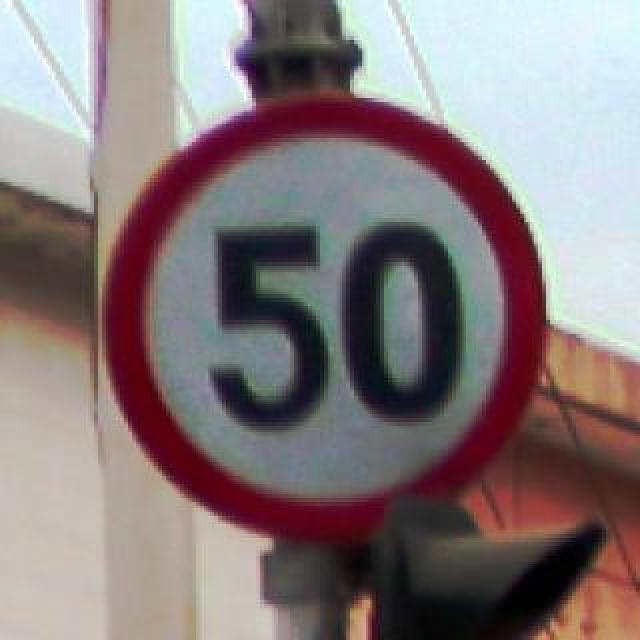50 kph: (98, 90, 550, 548)
